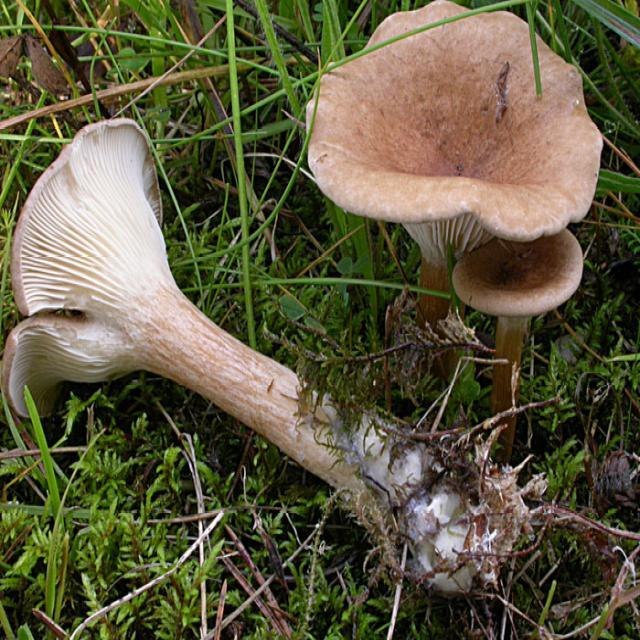Clitocybe maxima: (5, 119, 531, 589), (307, 1, 603, 377)
